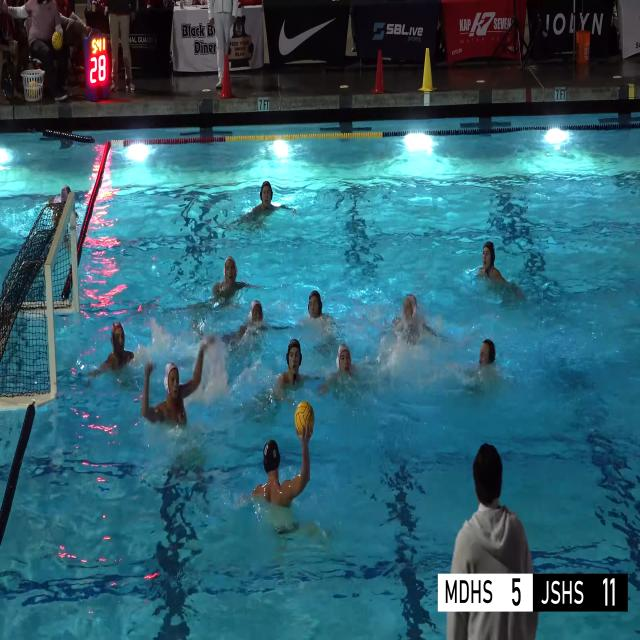ball: (294, 401, 314, 437), (52, 31, 63, 51)
